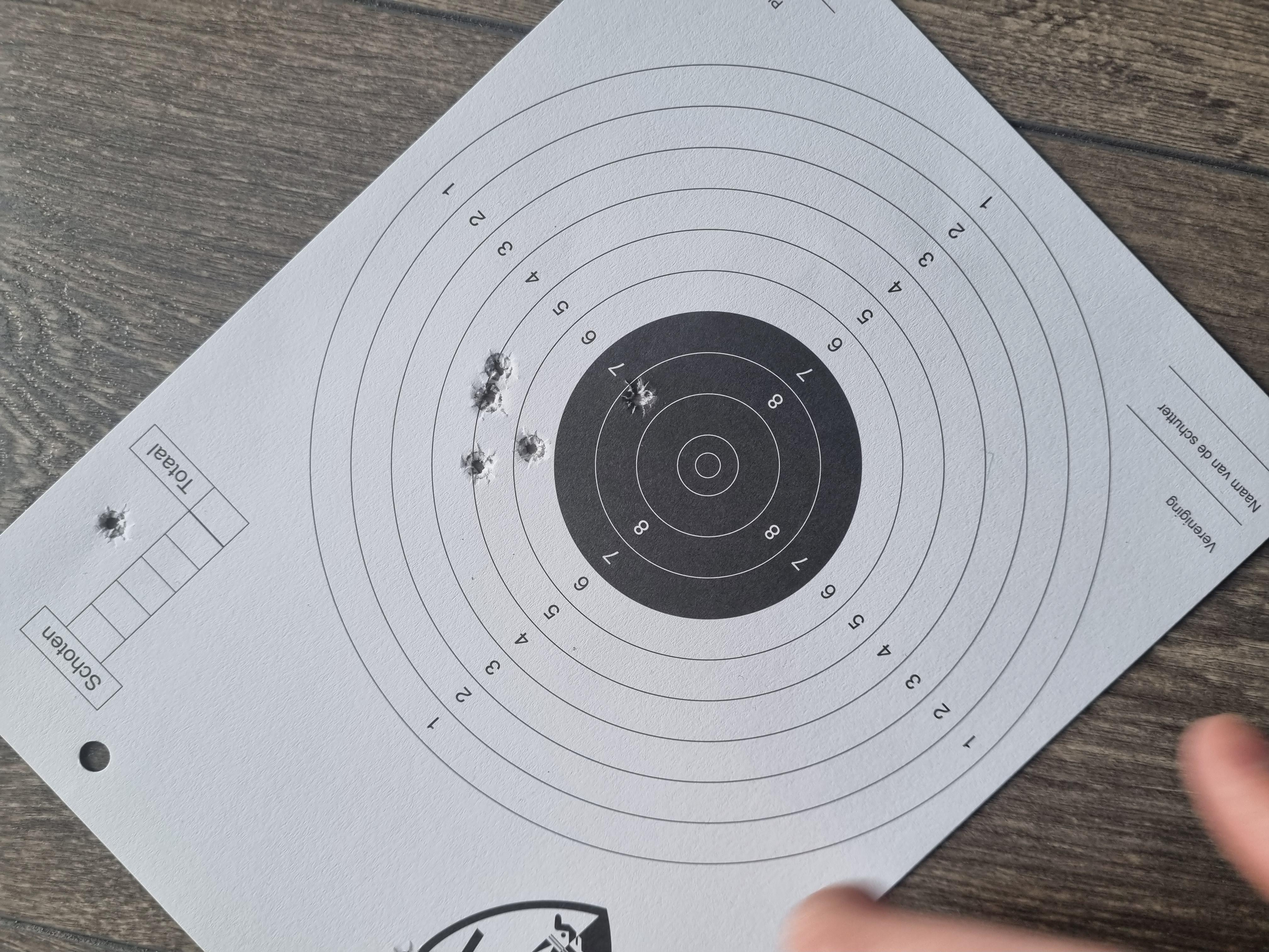hole: (711, 462, 767, 494), (755, 359, 804, 389), (627, 345, 679, 371), (545, 71, 592, 97), (650, 386, 697, 411), (715, 352, 757, 377)
